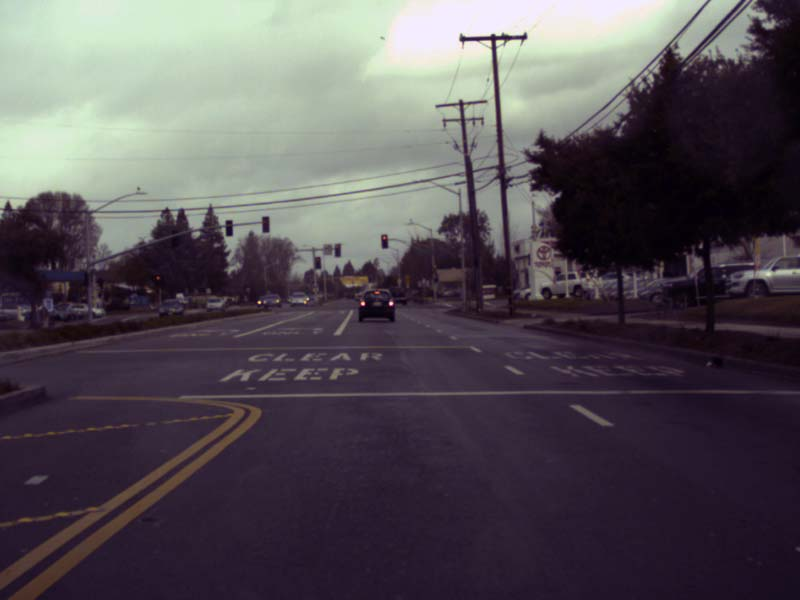Red: (154, 272, 162, 288), (334, 243, 341, 257), (381, 234, 388, 248), (315, 257, 321, 268), (433, 263, 436, 277)
